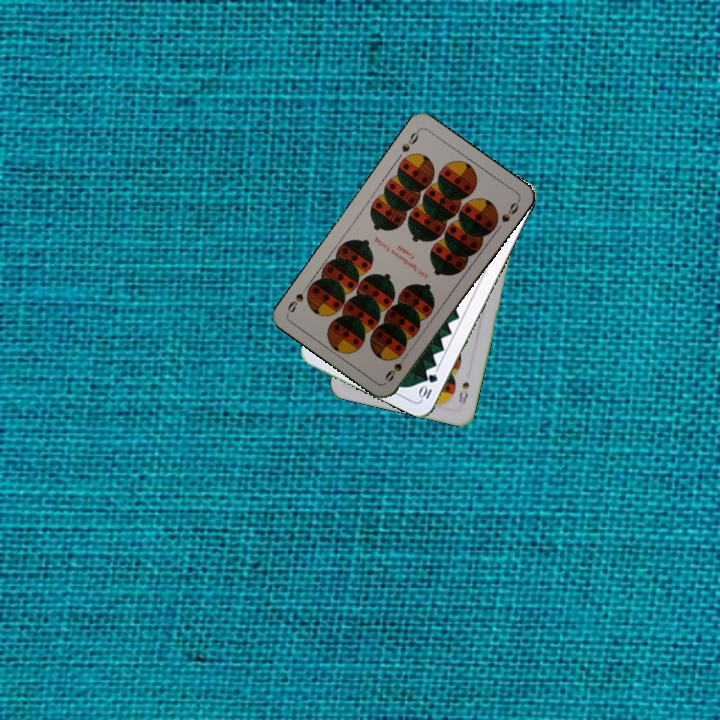G10: (415, 370, 440, 402)
S8: (454, 378, 472, 407)
S9: (381, 349, 410, 385), (397, 126, 422, 155)
